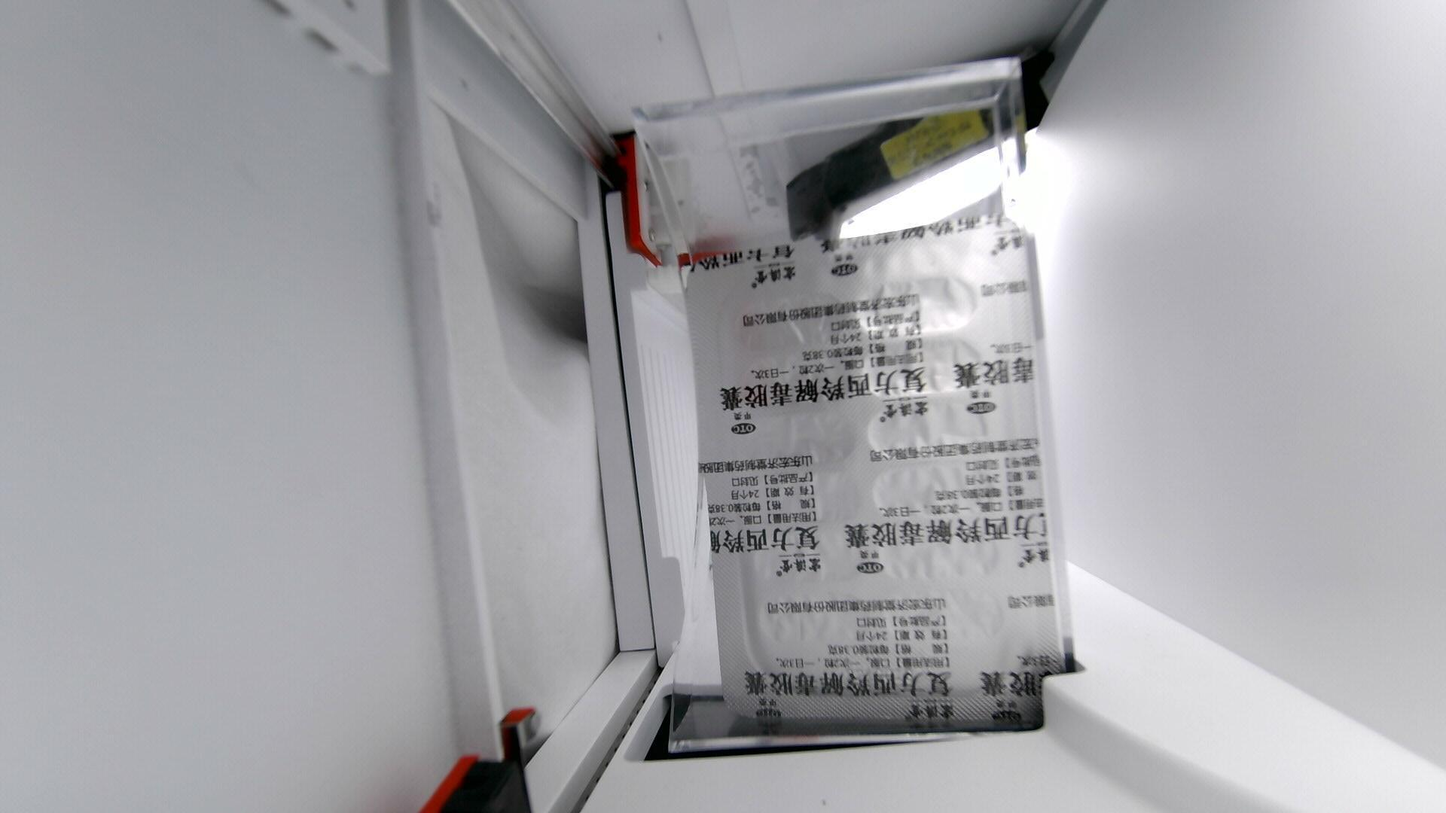Pill Back: (721, 282, 850, 343), (727, 405, 864, 461), (737, 465, 862, 522), (871, 524, 1002, 578), (720, 348, 856, 397), (869, 403, 991, 455), (907, 639, 1030, 689), (875, 465, 991, 516), (892, 592, 1012, 638), (865, 280, 975, 330), (761, 597, 872, 646), (764, 645, 878, 691), (871, 343, 978, 385), (756, 528, 853, 574)
